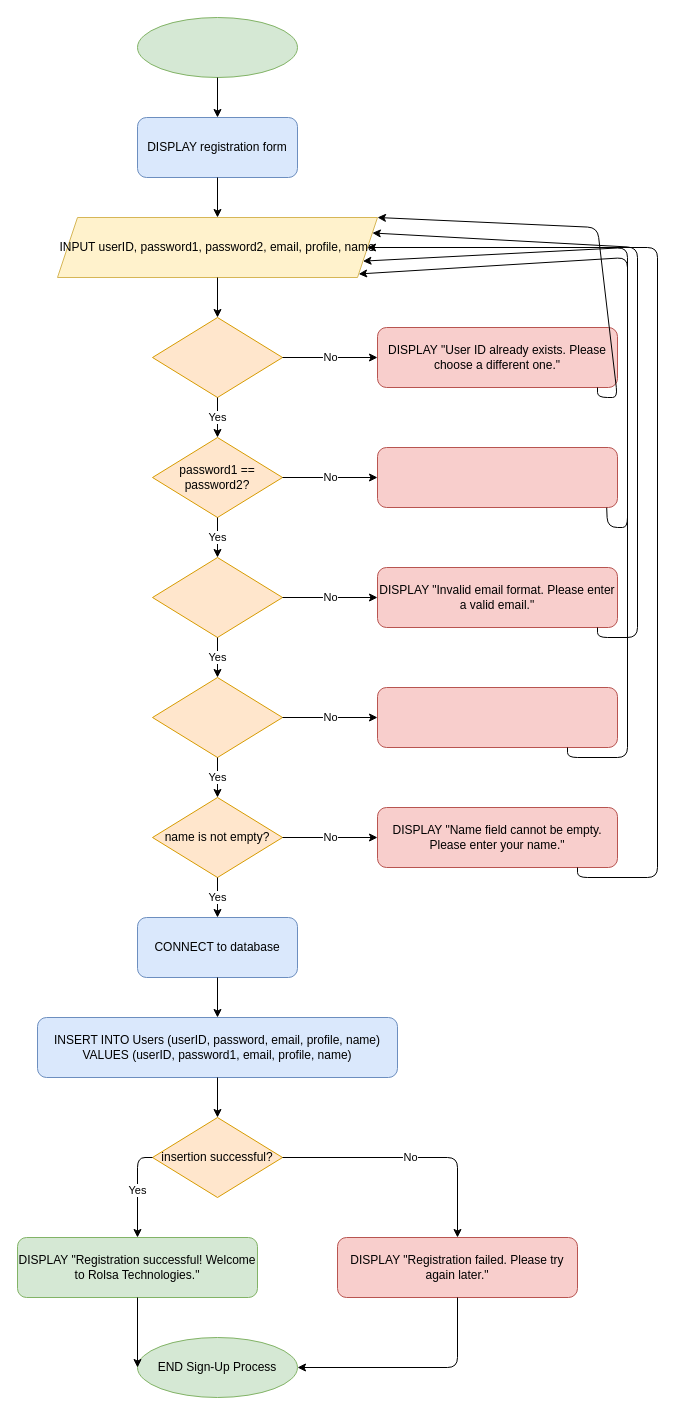
This 683x1415 diagram has some shape labels left out. Here are the shapes that lost their labels. From the top down, the box of each, then its label:
(136, 16, 298, 78): START Sign-Up Process
(152, 316, 282, 398): userID is unique?
(376, 446, 618, 508): DISPLAY "Passwords do not match. Please retype your password."
(152, 556, 282, 638): email format is valid?
(152, 676, 282, 758): profile is not empty?
(376, 686, 618, 748): DISPLAY "Profile field cannot be empty. Please fill in your profile."
